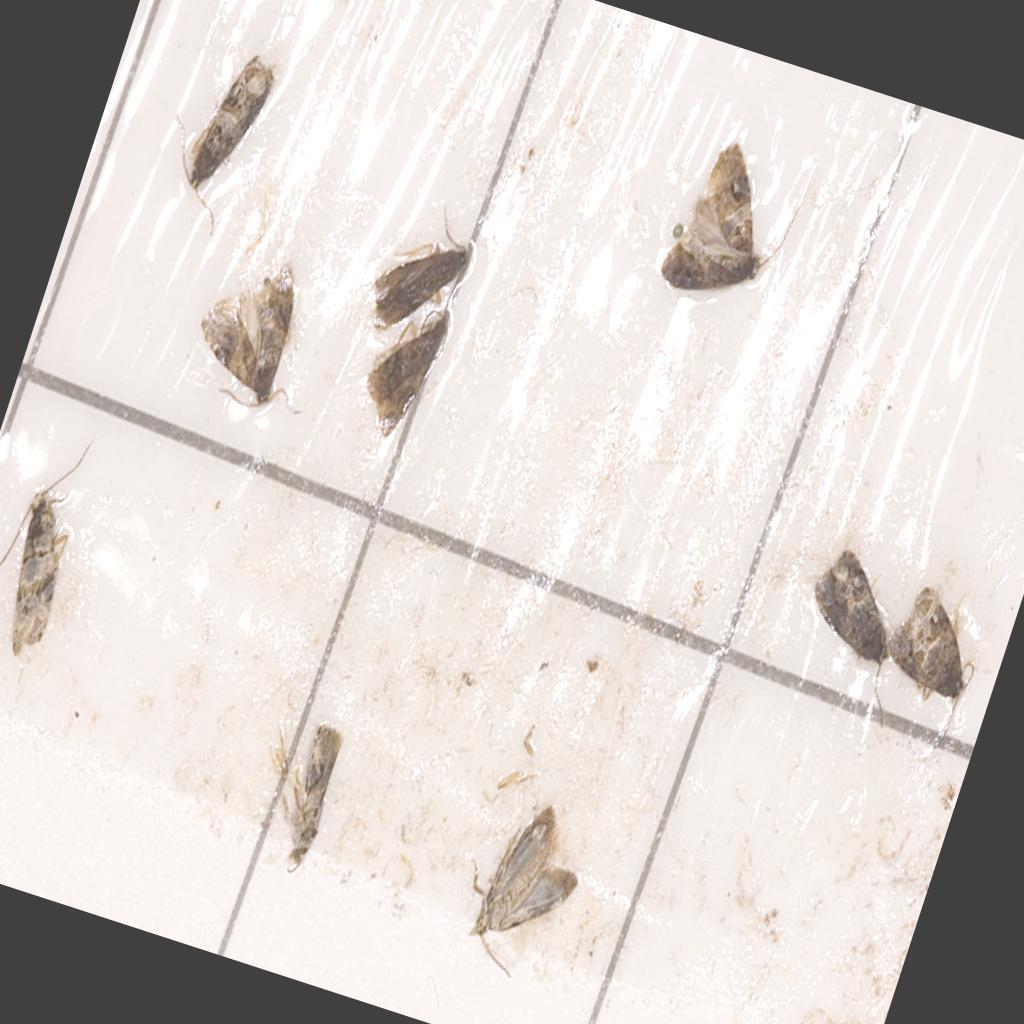grape_moth: (652, 142, 804, 292), (1, 441, 91, 666), (470, 804, 583, 983), (177, 54, 278, 236), (197, 265, 312, 424), (361, 285, 464, 441), (887, 582, 981, 741), (811, 546, 895, 723), (265, 716, 348, 877), (370, 210, 477, 331)
